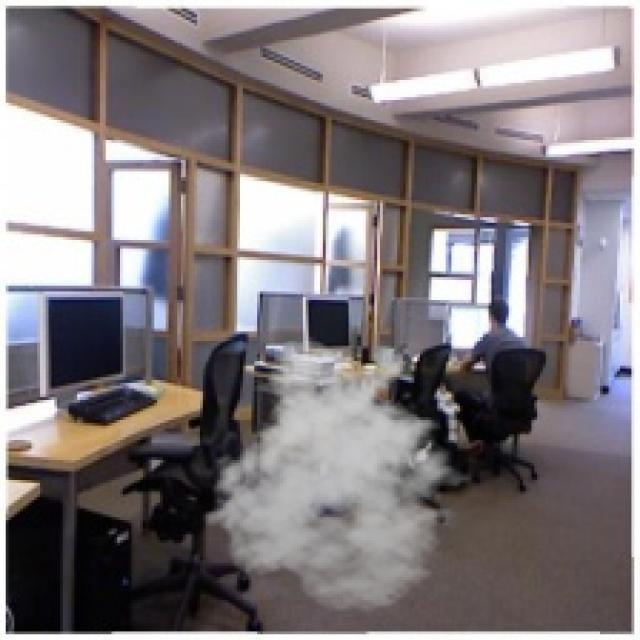Smoke: (203, 337, 486, 614)
